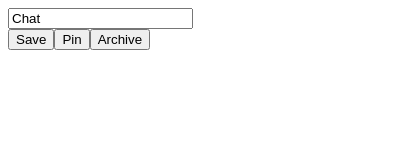
Test: organizer exposes pin/archive/rename and offers reload after a failed CAS
Later steps or results of the test are not shown.
Replace the text in the field named "Rename" with "Renamed" at {"x": 100, "y": 18}, box [8,8,193,29]
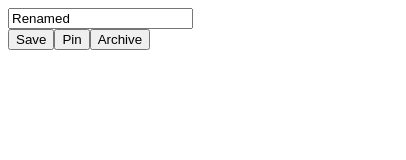
Click the button "Save" at {"x": 31, "y": 40}, box [8,29,54,50]
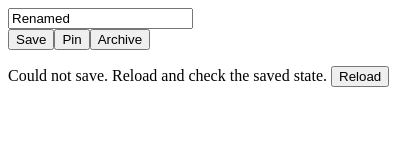
Expected: the message "Could not save. Reload and check the saved state. Reload" is shown, [8,66,389,87]
